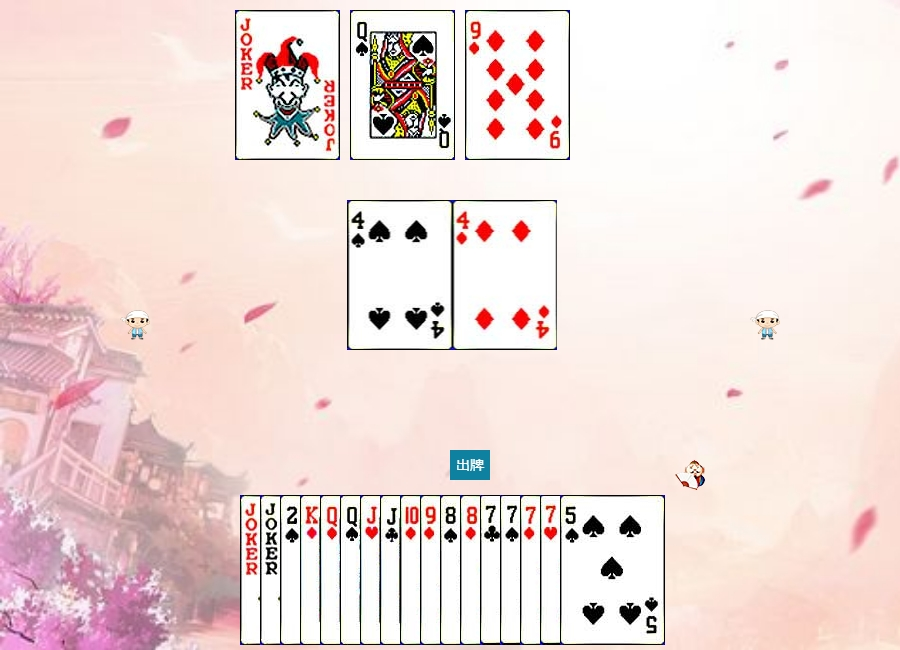10~1: (400, 495, 505, 645)
11~2: (380, 495, 485, 645)
11~3: (360, 495, 465, 645)
12~1: (320, 495, 425, 645)
12~4: (350, 10, 455, 160), (340, 495, 445, 645)
13~1: (300, 495, 405, 645)
15~4: (280, 495, 385, 645)
17~3: (260, 495, 365, 645)
18~4: (235, 10, 340, 160), (240, 495, 345, 645)
4~1: (453, 200, 558, 350)
4~4: (348, 200, 453, 350)
5~4: (560, 495, 665, 645)
7~1: (520, 495, 625, 645)
7~2: (480, 495, 585, 645)
7~3: (540, 495, 645, 645)
7~4: (500, 495, 605, 645)
8~1: (460, 495, 565, 645)
8~4: (440, 495, 545, 645)
9~1: (465, 10, 570, 160), (420, 495, 525, 645)
